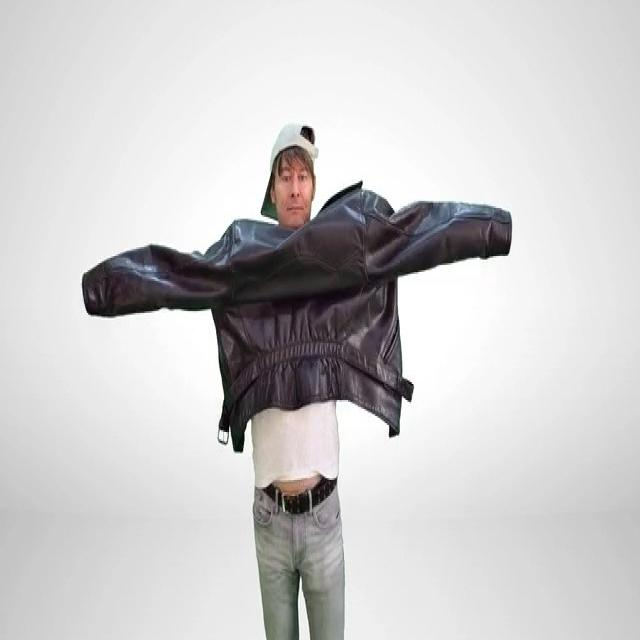Jacket_Wearer: (71, 184, 514, 424)
Person: (204, 119, 370, 640)
